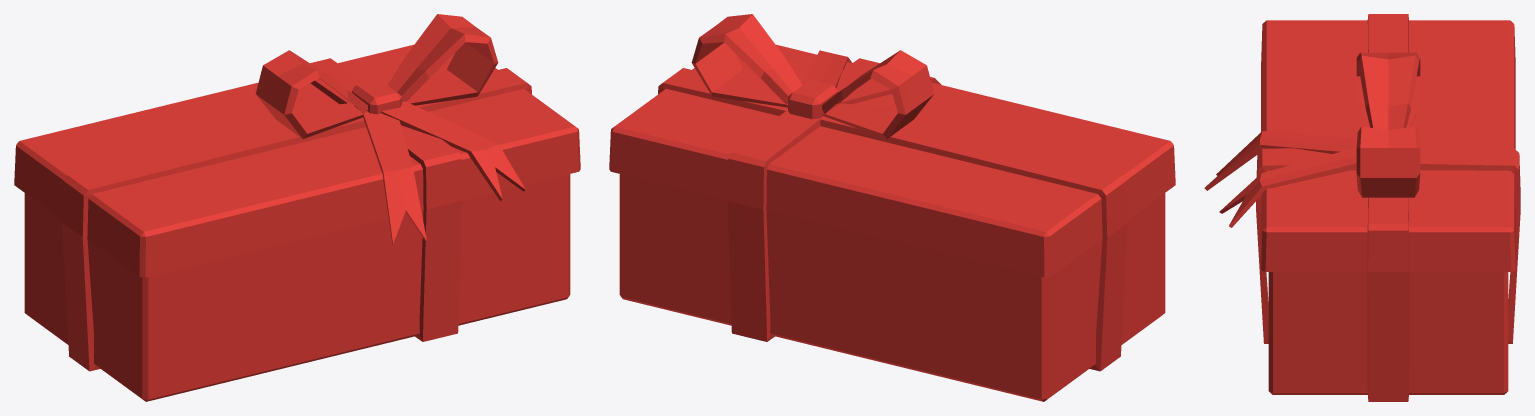
File: SM_Gift_Christmas_Long_A.fbx
The picture shows the model from 3 angles, left to right: view 1: azimuth 30°, elevation 25°; view 2: azimuth 150°, elevation 25°; view 3: azimuth 270°, elevation 25°; orthographic projection.
Visible parts, largest first — view 1: gift-christmas-long-a; view 2: gift-christmas-long-a; view 3: gift-christmas-long-a.
Boxes of the visible parts, x1=… form: gift-christmas-long-a: x1=14, y1=14, x2=580, y2=401; gift-christmas-long-a: x1=609, y1=14, x2=1175, y2=401; gift-christmas-long-a: x1=1204, y1=14, x2=1520, y2=401.
Bounding box in the file's own units: 0.6387 × 0.3407 × 0.3963.
